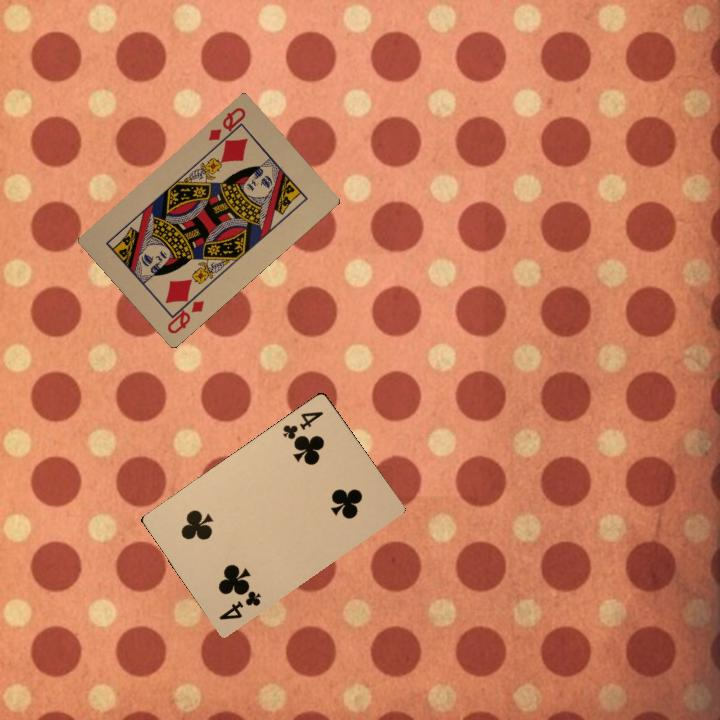4c: (278, 407, 326, 445), (215, 585, 263, 623)
Qd: (163, 288, 207, 336), (204, 103, 248, 150)
